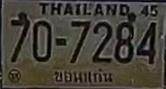0: (32, 20, 51, 61)
2: (92, 21, 111, 62)
4: (136, 21, 156, 63)
7: (10, 17, 31, 61), (70, 20, 90, 62)
8: (114, 21, 134, 62)
KKN: (51, 66, 116, 85)
